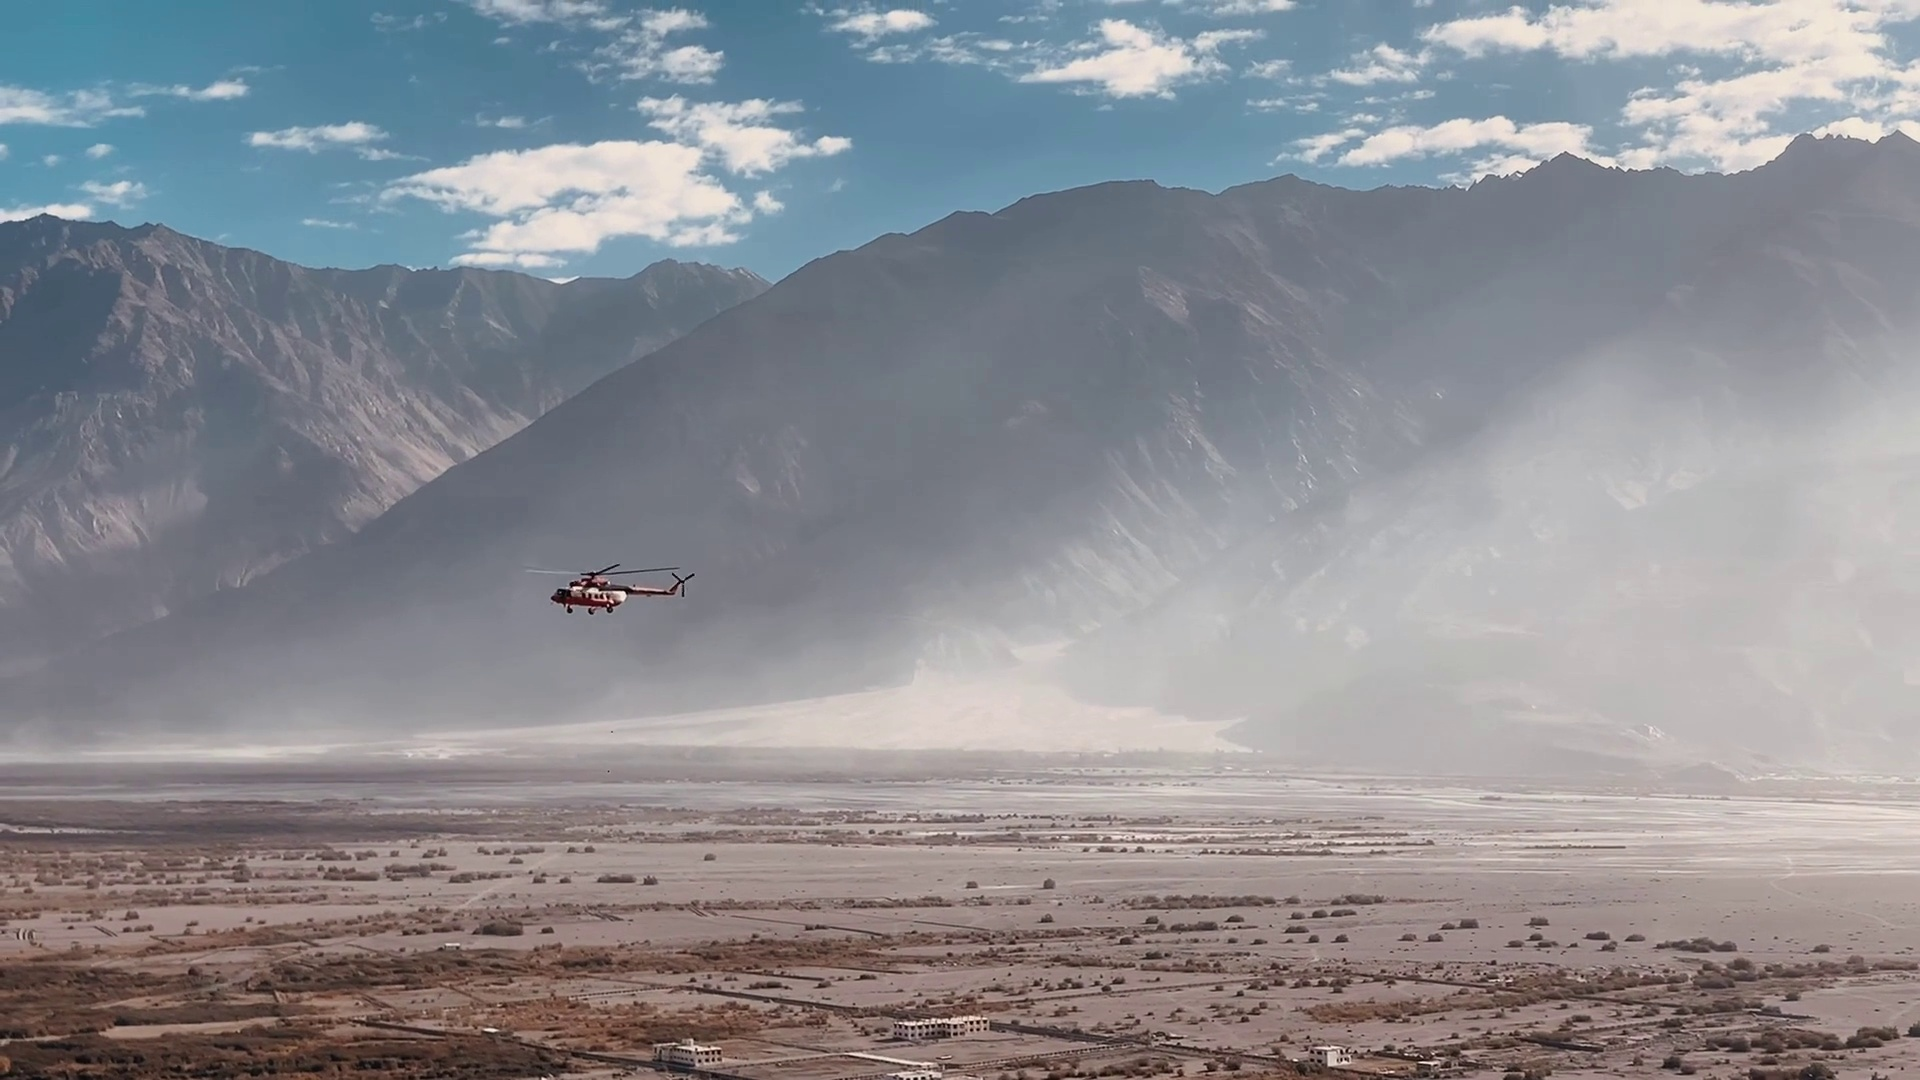heli: (524, 558, 695, 617)
